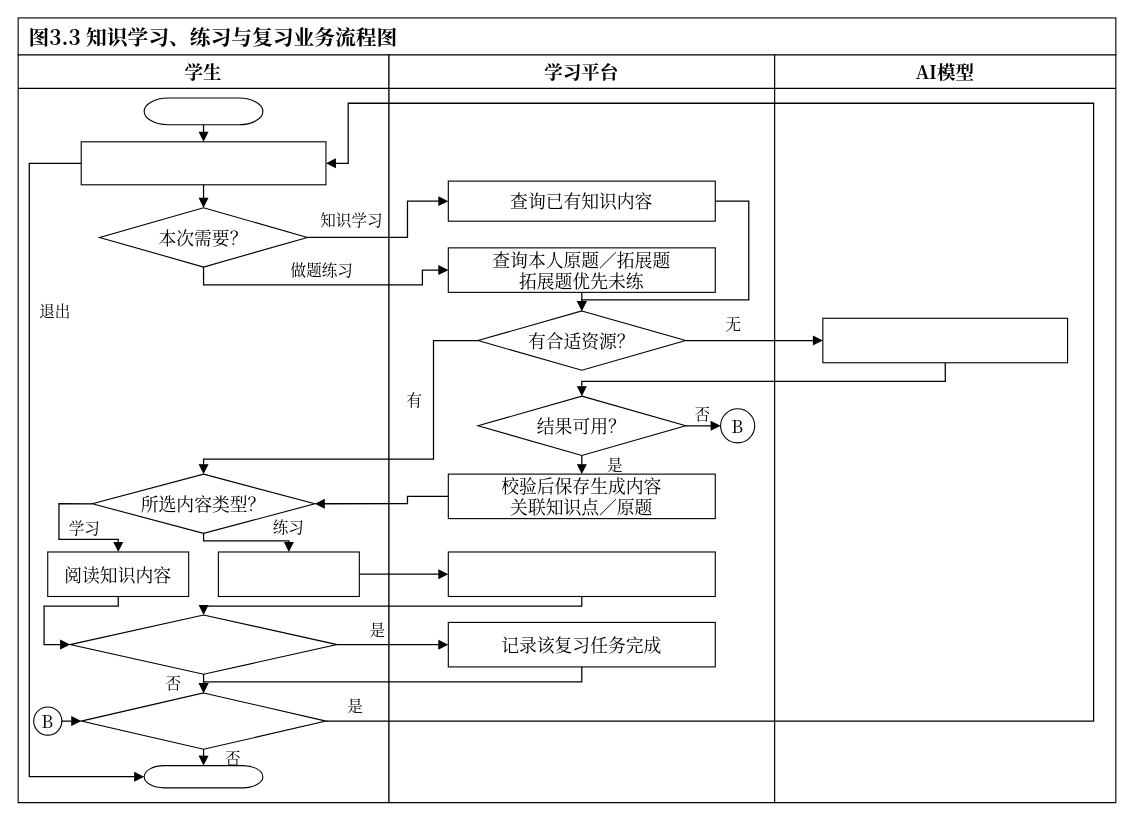
This 1134x821 diagram has some shape labels left out. The shapes that lost their labels are listed below. From the top down, each one's centre as x and y in pixels, then its label:
the point at 203,111: 开始
the point at 203,163: 选择错题／知识点 或待复习任务
the point at 945,340: 按所选类型生成 知识讲解／变式题
the point at 288,573: 作答并自行 判定正误
the point at 581,573: 保存作答与题目标识 更新掌握度
the point at 203,644: 完成所选复习？
the point at 203,720: 继续学习或练习？
the point at 203,776: 结束
